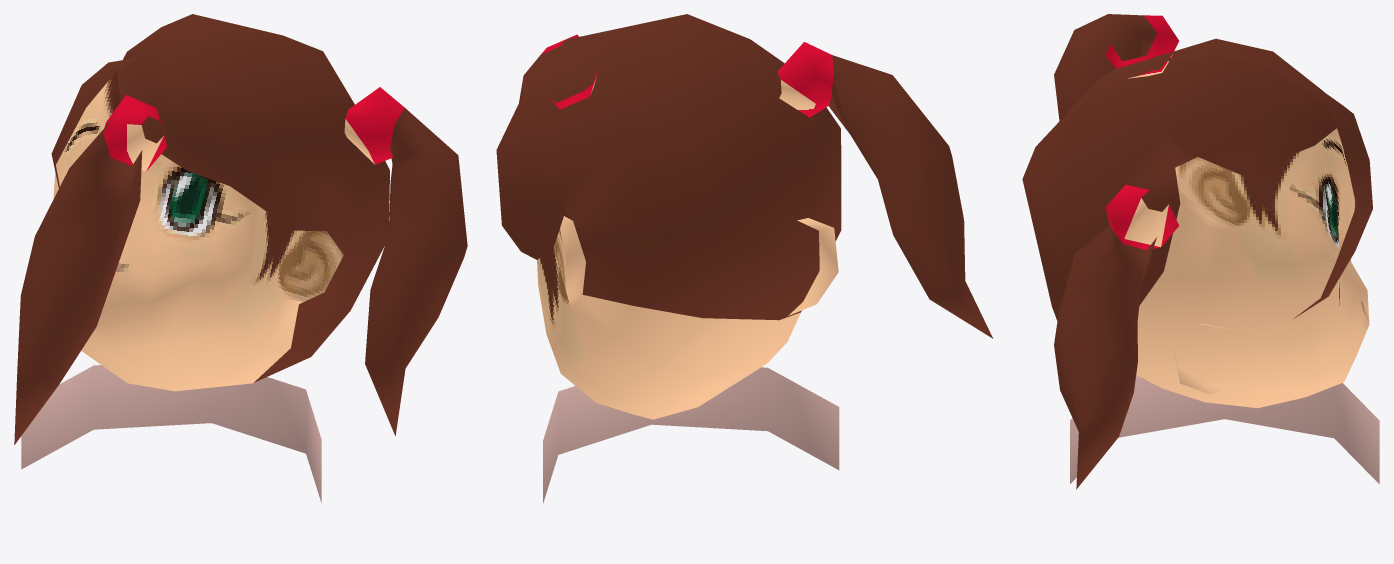
The model's file is ps2_save-icons_bravomusicchristmasedition.glb.
3 views of the same model, side by side, from view 1: azimuth 30°, elevation 25°; view 2: azimuth 150°, elevation 25°; view 3: azimuth 270°, elevation 25° (orthographic).
Visible parts, largest first — view 1: marry.ico; view 2: marry.ico; view 3: marry.ico.
Boxes of the visible parts, box(x1,y1,x2,y2) form: marry.ico: box(14, 14, 467, 502); marry.ico: box(496, 14, 993, 503); marry.ico: box(1022, 14, 1379, 489).
Size of the model in its own units: 4.46 by 4.16 by 3.01.
Materials: 1 (1 with a texture image).
